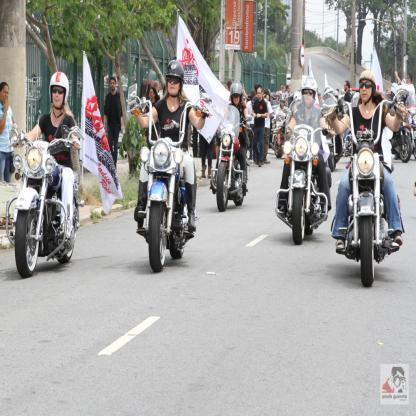Helmet: (164, 59, 186, 107), (359, 67, 376, 106), (48, 72, 68, 102), (299, 76, 317, 109), (229, 80, 243, 107), (392, 83, 400, 99), (278, 94, 287, 106)
